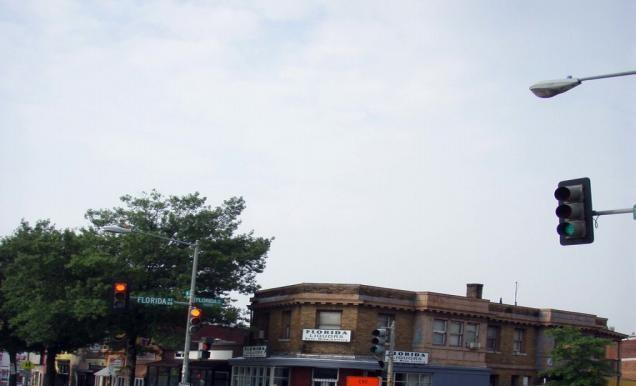green_light: (555, 177, 594, 246)
red_light: (114, 281, 128, 310), (189, 306, 201, 335)
